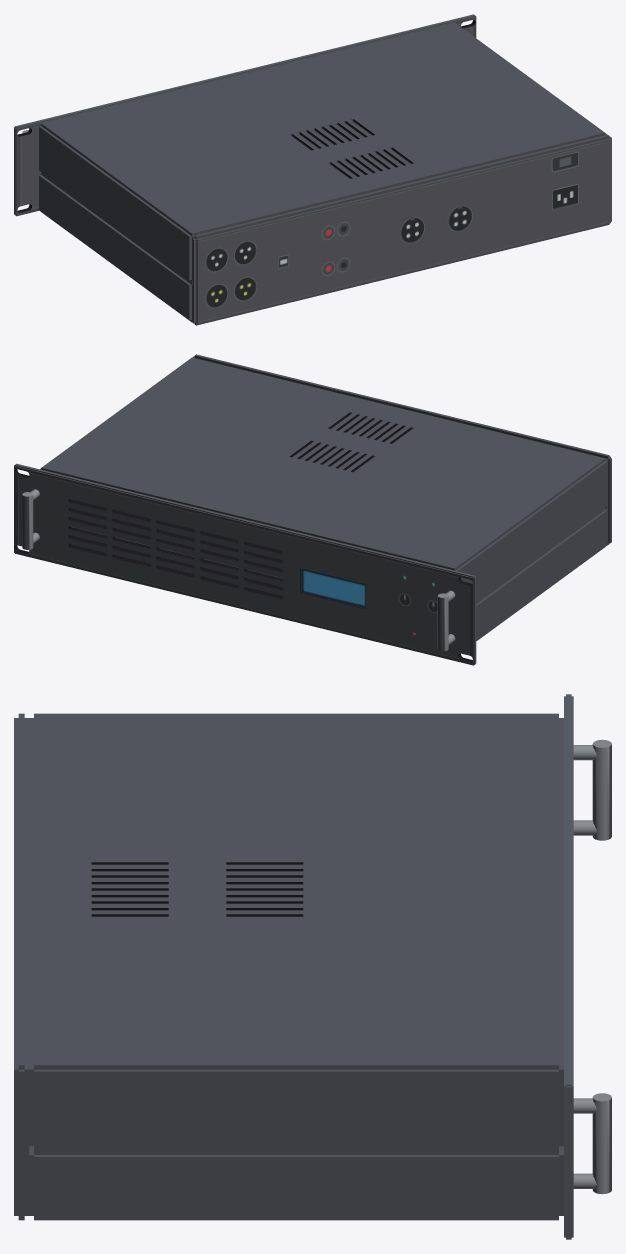
File: crown-xti-4002.glb
The picture shows the model from 3 angles, top to bottom: view 1: azimuth 30°, elevation 25°; view 2: azimuth 150°, elevation 25°; view 3: azimuth 270°, elevation 25°; orthographic projection. The views are drawn at different scales.
Visible parts, largest first — view 1: crown-xti-4002-body; view 2: crown-xti-4002-body; view 3: crown-xti-4002-body.
Boxes of the visible parts, bbox=[...] form: crown-xti-4002-body: bbox=[14, 14, 611, 325]; crown-xti-4002-body: bbox=[14, 354, 611, 665]; crown-xti-4002-body: bbox=[14, 694, 611, 1239].
Bounding box in the file's own units: 0.4826 × 0.0889 × 0.3112.
Materials: 1 (1 with a texture image).
